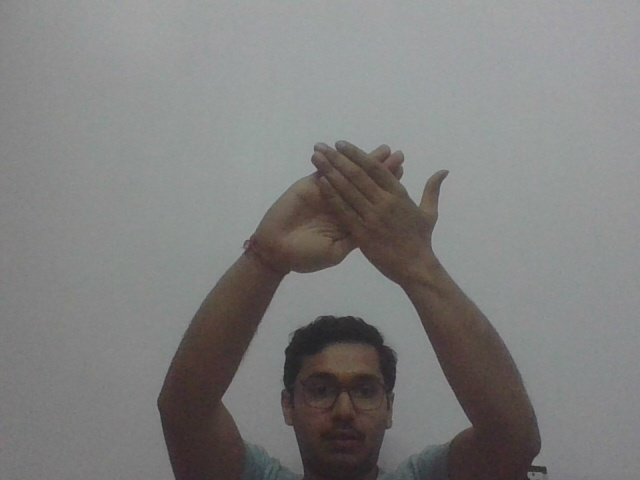H: (269, 137, 458, 286)
